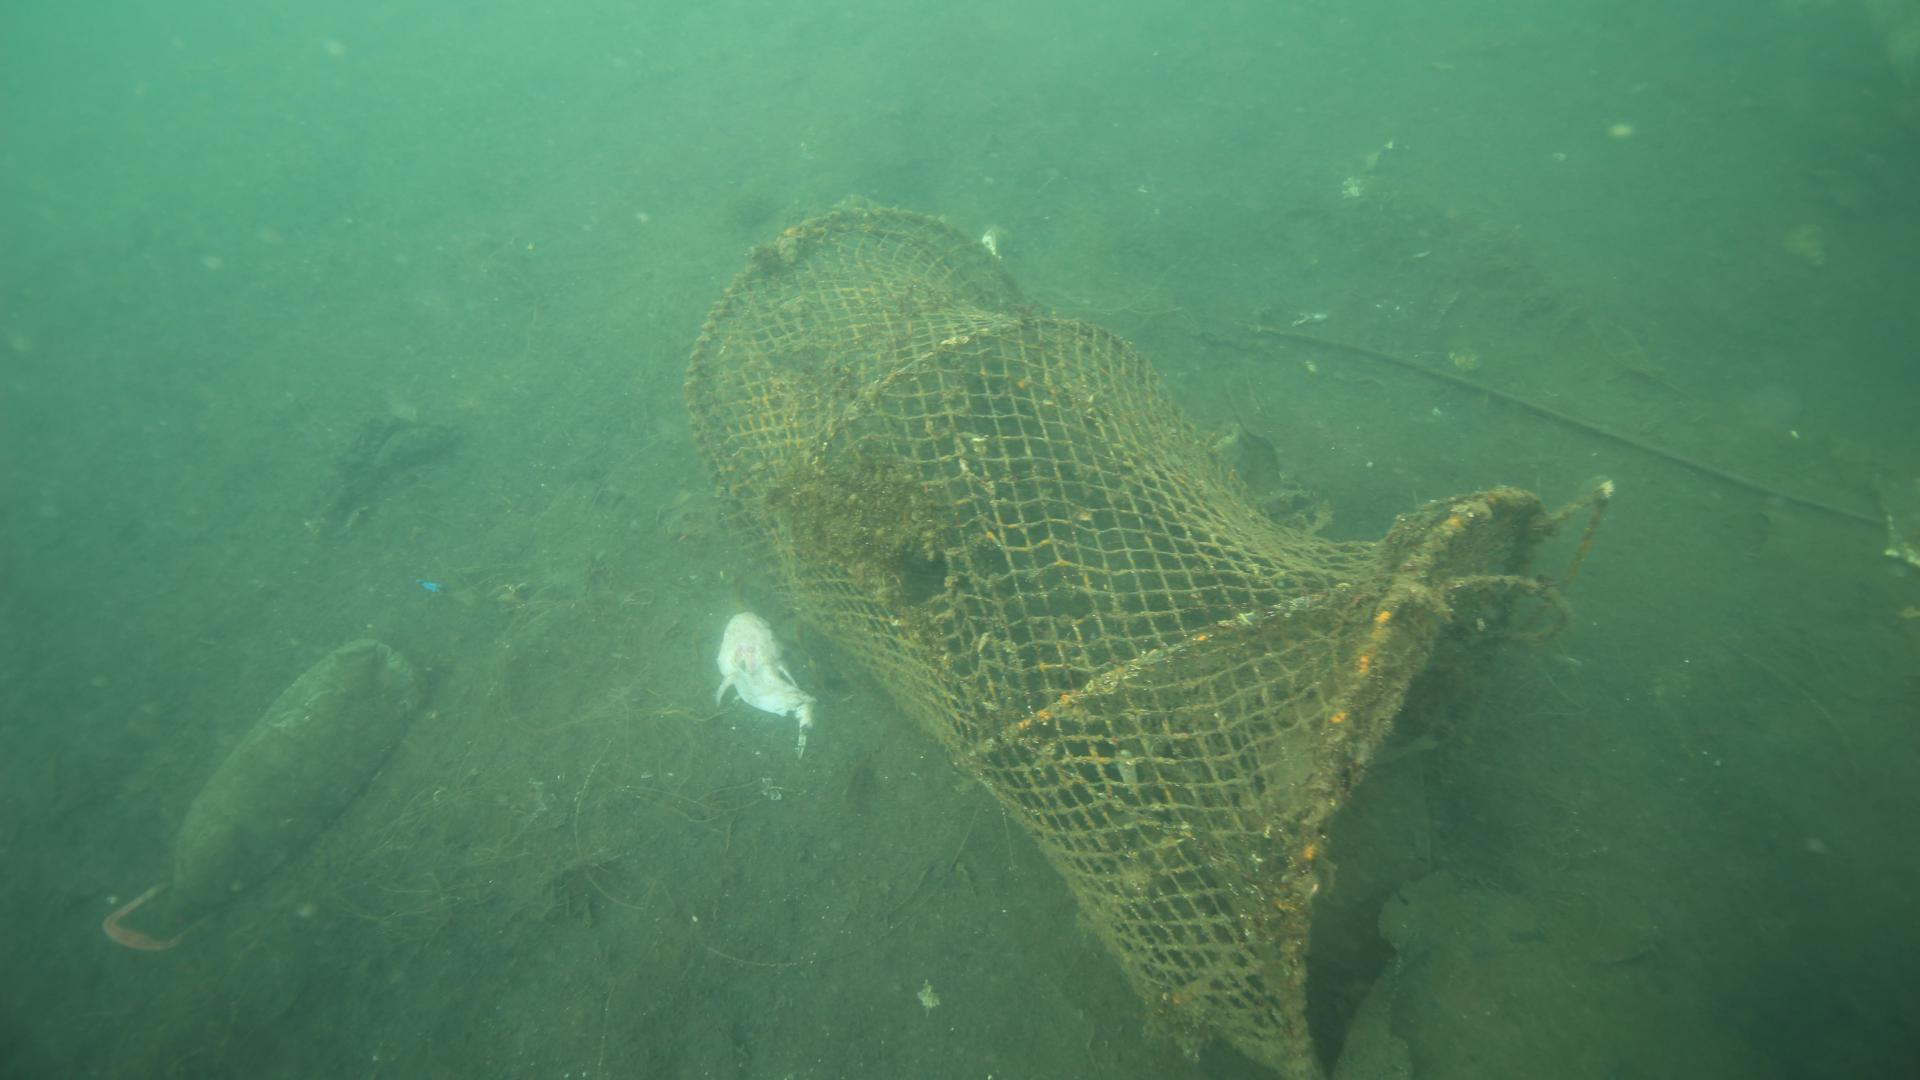spring fish trap: (679, 199, 1555, 1080)
